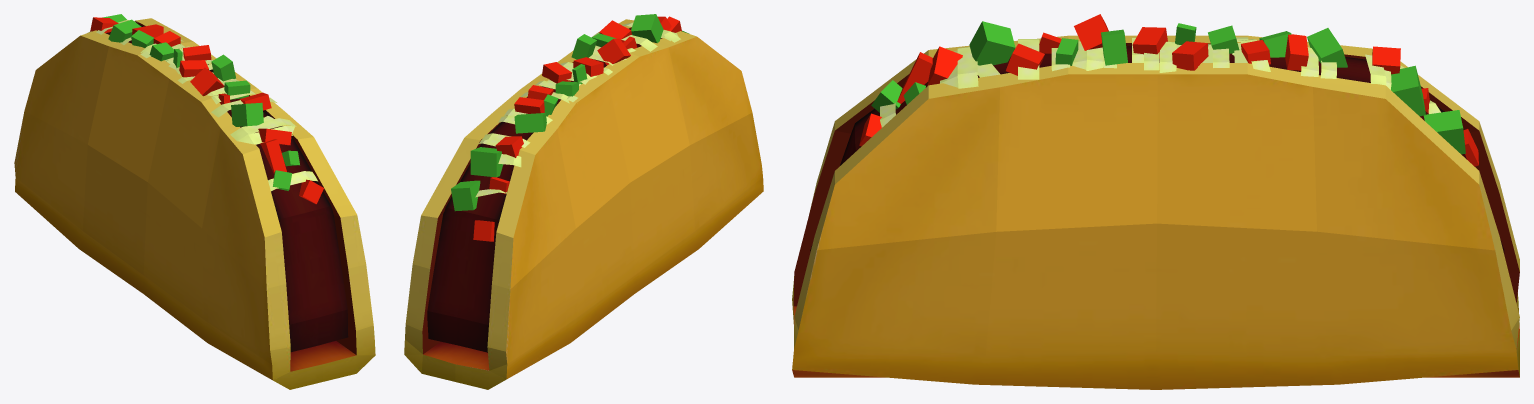
3 views of the same model, side by side, from view 1: azimuth 30°, elevation 25°; view 2: azimuth 150°, elevation 25°; view 3: azimuth 270°, elevation 25° (orthographic). The views are drawn at different scales.
Parts seen in each view (by area): view 1: Kocka.060; view 2: Kocka.060; view 3: Kocka.060.
Part boxes in pixels (x1,y1,x2,y2): Kocka.060: (14, 14, 375, 389); Kocka.060: (404, 14, 763, 389); Kocka.060: (792, 14, 1519, 389).
Size of the model in its own units: 0.5524 by 1.2 by 2.37.
51 materials, 27 textured.
